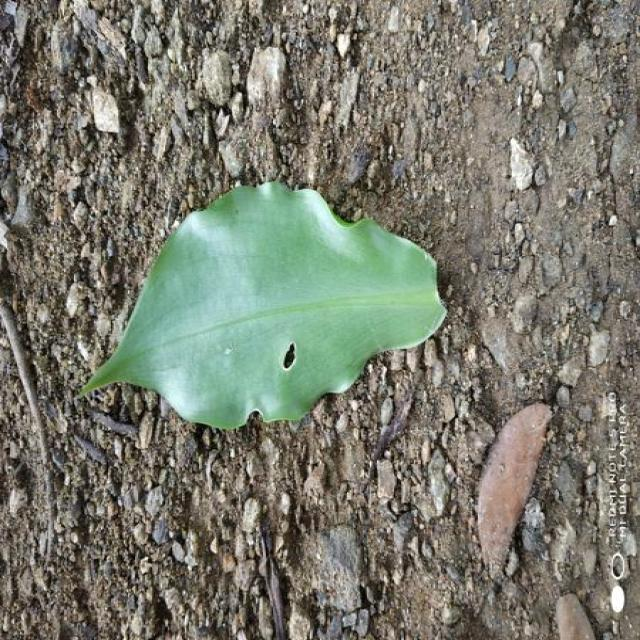insulin: (82, 182, 445, 429)
